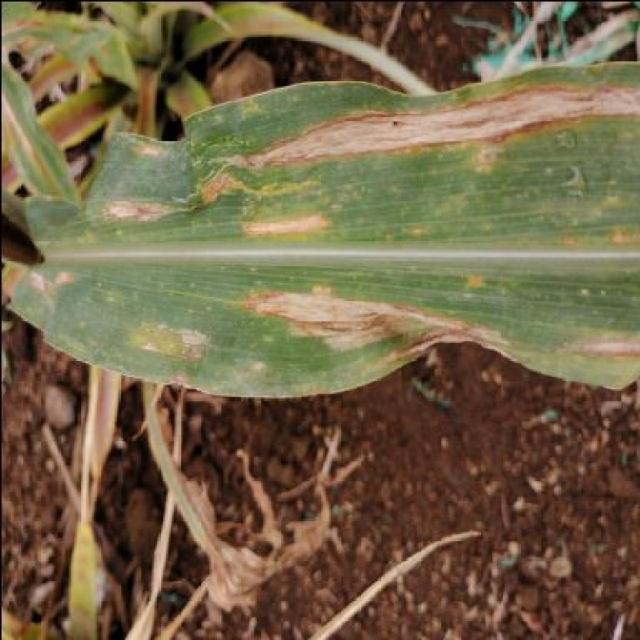Corn_Leaf_Blight: (11, 55, 640, 397)
